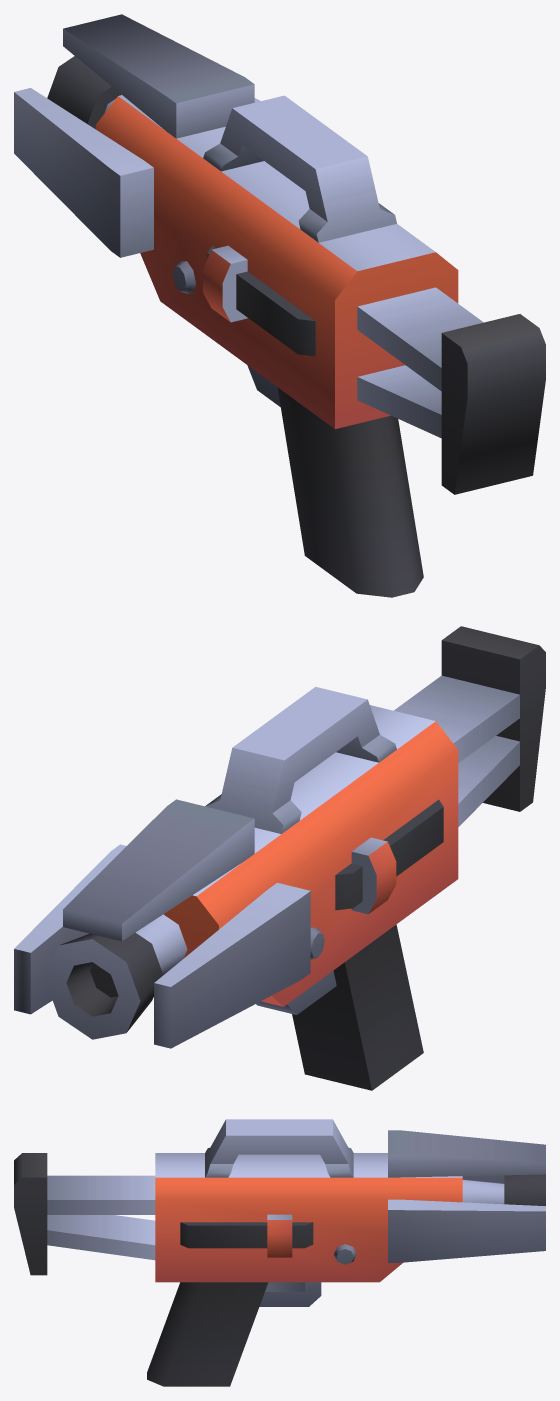
File: smg.glb
3 views of the same model, one above another, from view 1: azimuth 30°, elevation 25°; view 2: azimuth 150°, elevation 25°; view 3: azimuth 270°, elevation 25° (orthographic). The views are drawn at different scales.
Visible parts, largest first — view 1: blaster-n; view 2: blaster-n; view 3: blaster-n.
Boxes of the visible parts, x1,y1,x2,y2 form: blaster-n: (14, 14, 545, 597); blaster-n: (14, 626, 545, 1090); blaster-n: (14, 1119, 545, 1386).
Bounding box in the file's own units: 0.17 × 0.33 × 0.6401.
Materials: 1 (1 with a texture image).
